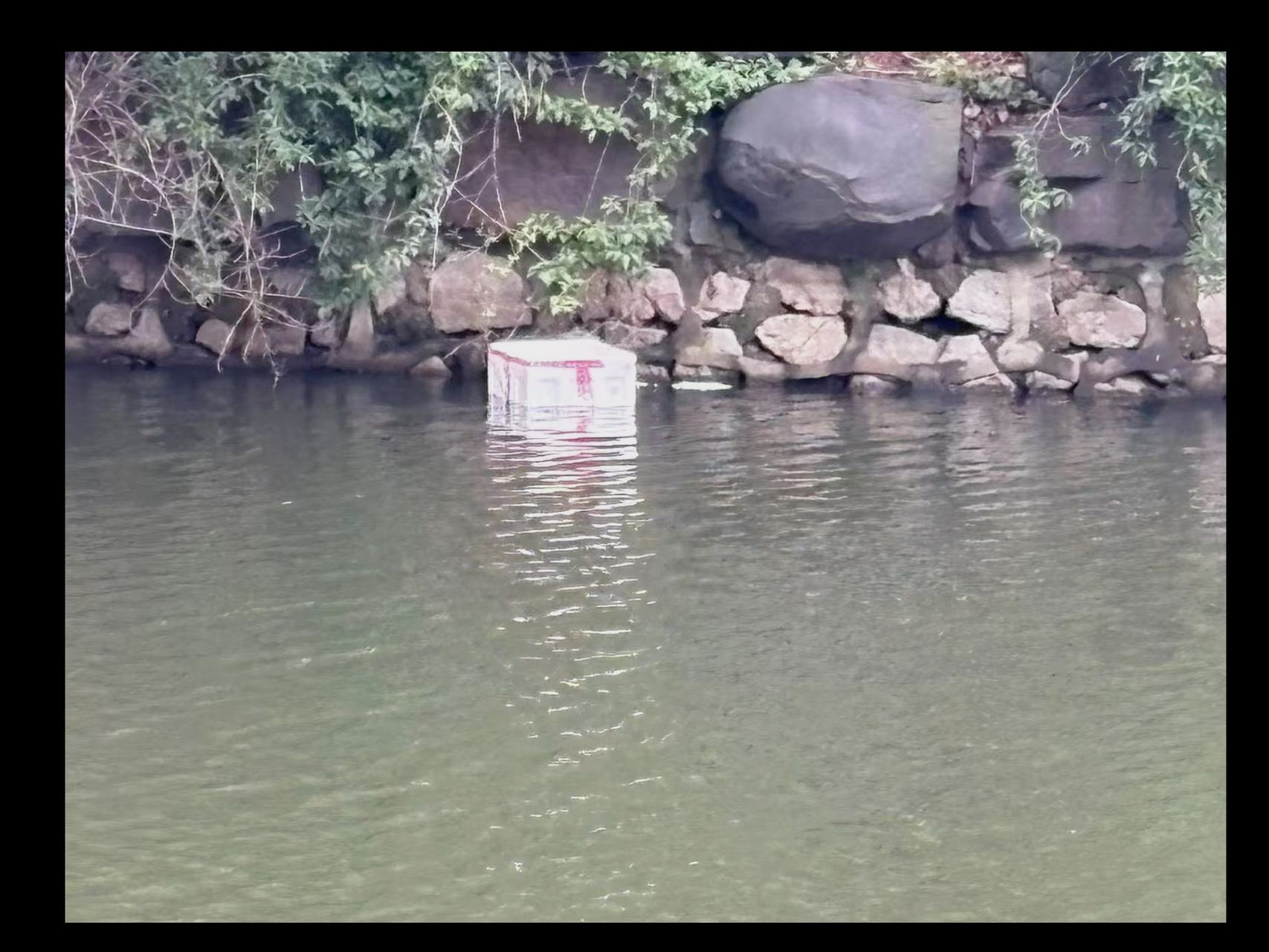Plastic wastes: (479, 329, 644, 422), (672, 375, 732, 390)
